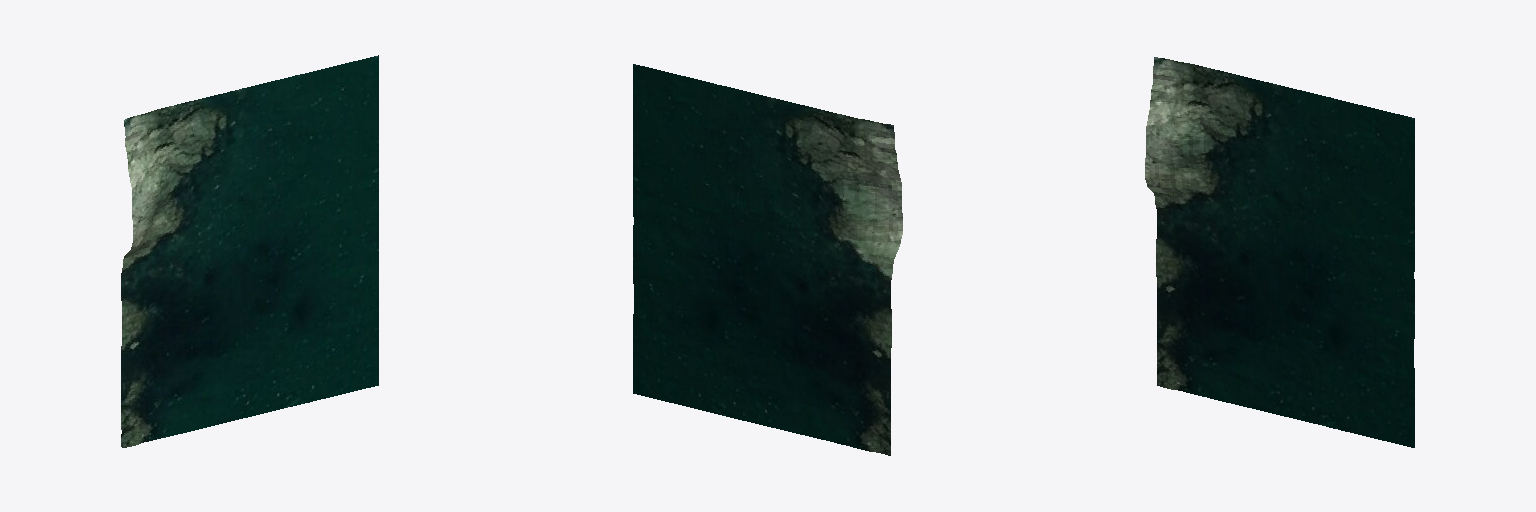
3 renders of one model, left to right at view 1: azimuth 30°, elevation 25°; view 2: azimuth 150°, elevation 25°; view 3: azimuth 330°, elevation 25°, orthographic.
Parts seen in each view (by area): view 1: 281398_113916; view 2: 281398_113916; view 3: 281398_113916.
Part boxes in pixels (left/top/right/bottom): 281398_113916: left=121, top=55, right=378, bottom=447; 281398_113916: left=633, top=64, right=902, bottom=455; 281398_113916: left=1145, top=57, right=1414, bottom=447.
Bounding box in the file's own units: 122 × 150 × 10.38.
1 materials, 1 textured.